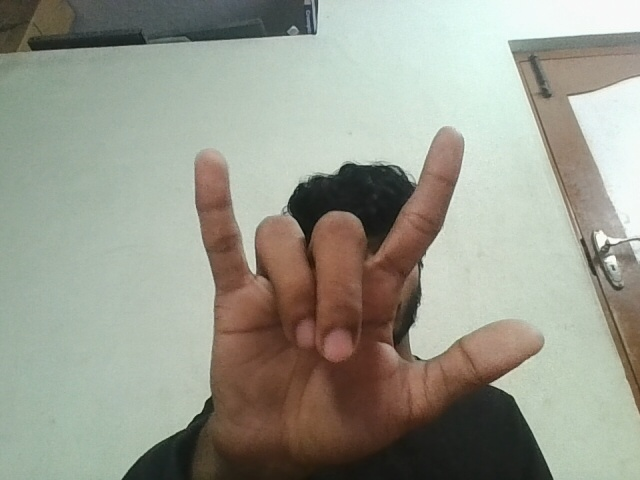iloveyou: (143, 117, 580, 453)
